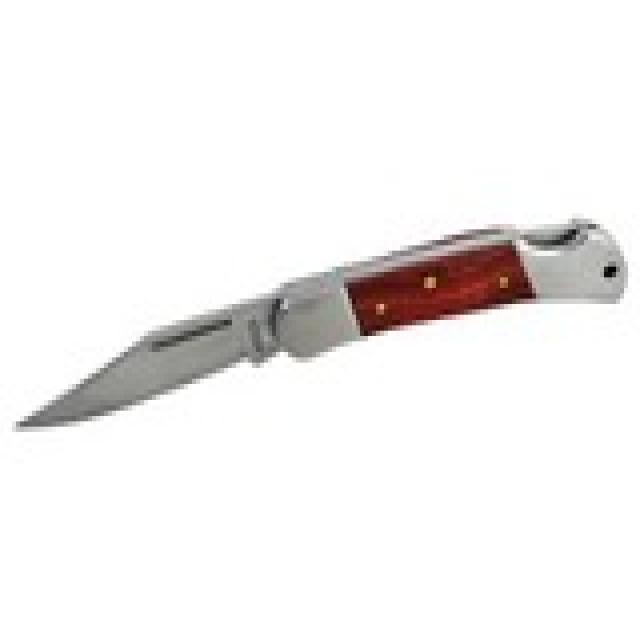Knife: (8, 198, 633, 444)
